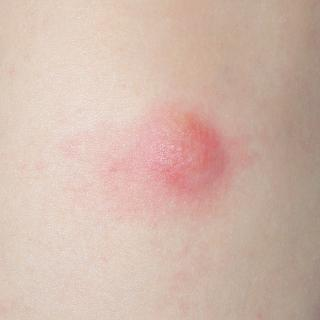urticaria: (133, 101, 244, 199)
